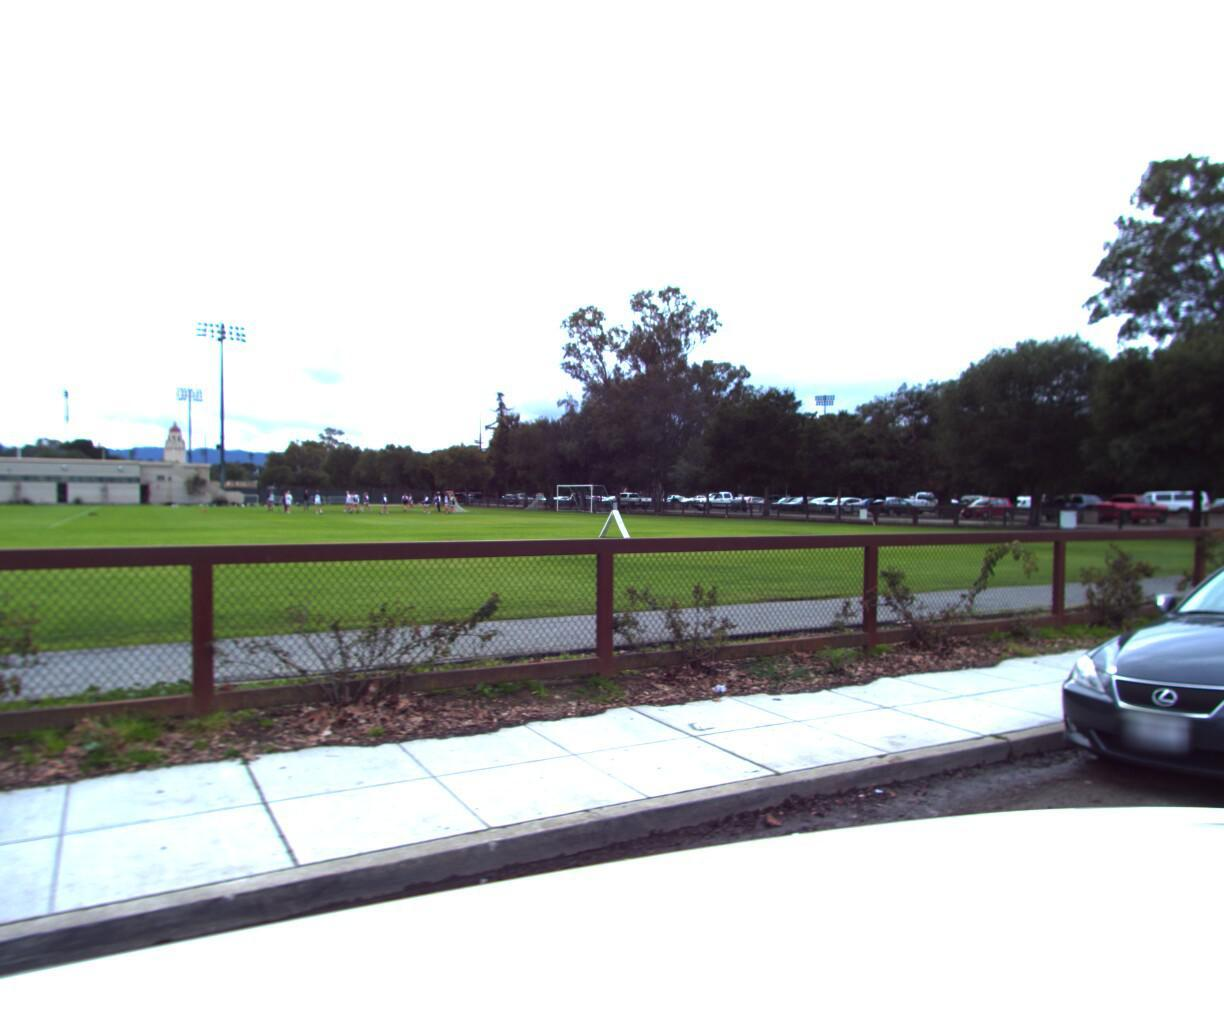car: (1018, 523, 1224, 878)
